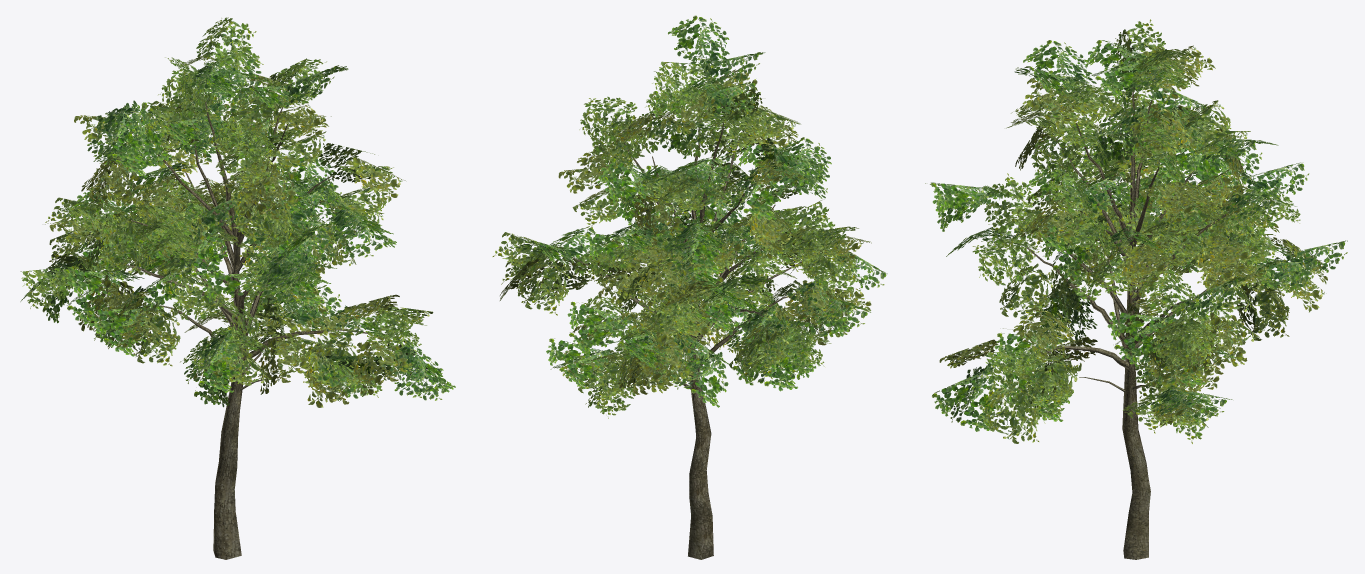
The model's file is tree1a_lod1.gltf.
3 renders of one model, left to right at view 1: azimuth 30°, elevation 25°; view 2: azimuth 150°, elevation 25°; view 3: azimuth 270°, elevation 25°, orthographic. The views are drawn at different scales.
Visible parts, largest first — view 1: polySurface1042, polySurface457; view 2: polySurface1042, polySurface457; view 3: polySurface1042, polySurface457.
Part boxes in pixels (box(x1,y1,x2,y2)): polySurface1042: box(20, 17, 455, 407); polySurface457: box(99, 102, 367, 559); polySurface1042: box(492, 15, 887, 418); polySurface457: box(572, 117, 801, 559); polySurface1042: box(925, 19, 1347, 443); polySurface457: box(1018, 87, 1255, 559).
Size of the model in its own units: 15.24 by 20.59 by 15.51.
2 materials, 2 textured.
